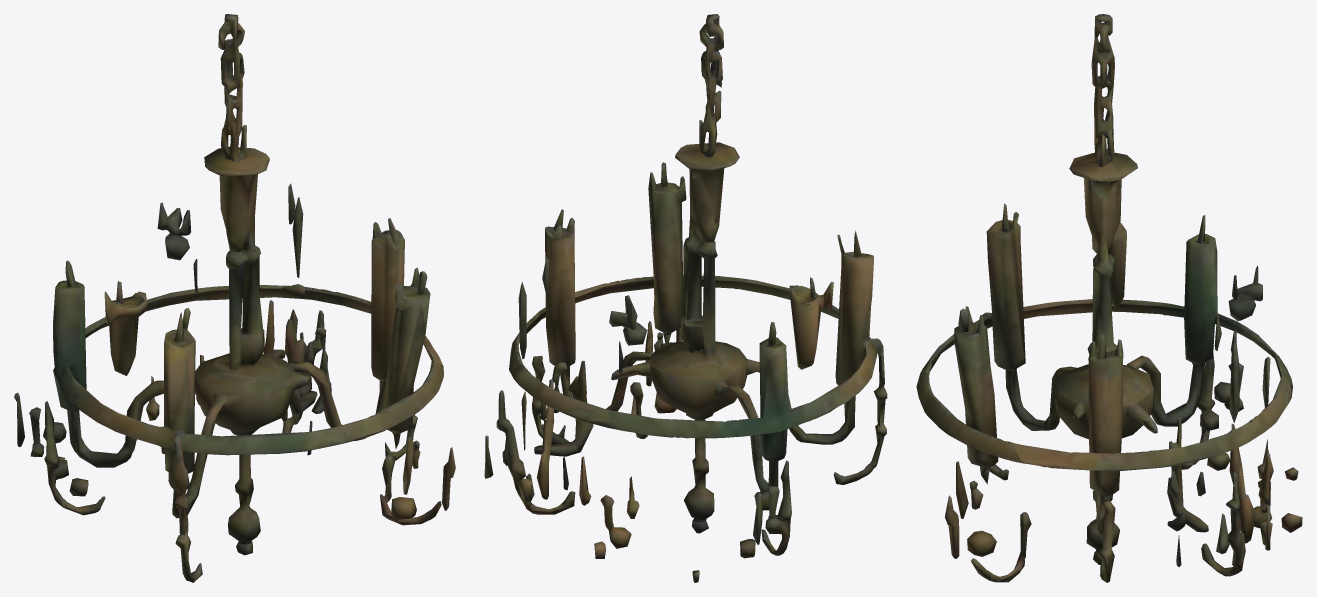
File: simple-bronze-chandelier-v002.glb
3 views of the same model, side by side, from view 1: azimuth 30°, elevation 25°; view 2: azimuth 150°, elevation 25°; view 3: azimuth 270°, elevation 25° (orthographic). The views are drawn at different scales.
Visible parts, largest first — view 1: simple-bronze-chandelier; view 2: simple-bronze-chandelier; view 3: simple-bronze-chandelier.
Boxes of the visible parts, x1,y1,x2,y2 form: simple-bronze-chandelier: (14, 14, 455, 582); simple-bronze-chandelier: (484, 14, 887, 582); simple-bronze-chandelier: (916, 14, 1302, 582).
Bounding box in the file's own units: 0.7481 × 1.17 × 0.7526.
1 material, 1 textured.
